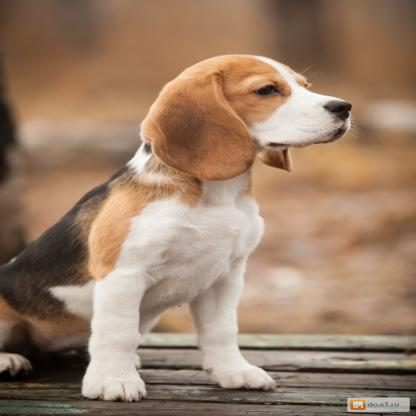Bigl: (2, 57, 356, 406)
